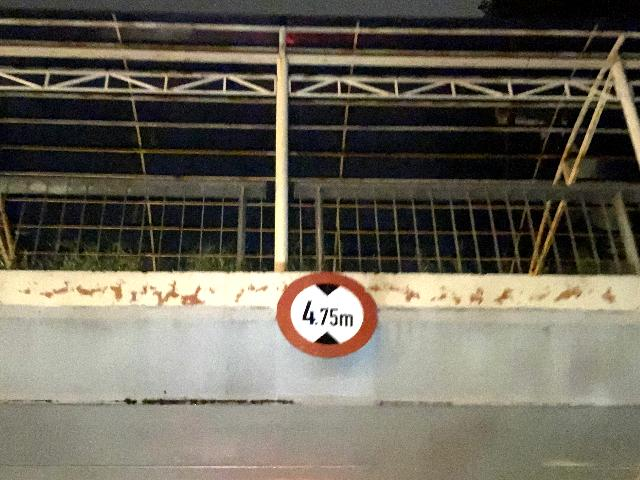han-che-chieu-cao: (278, 273, 377, 359)
